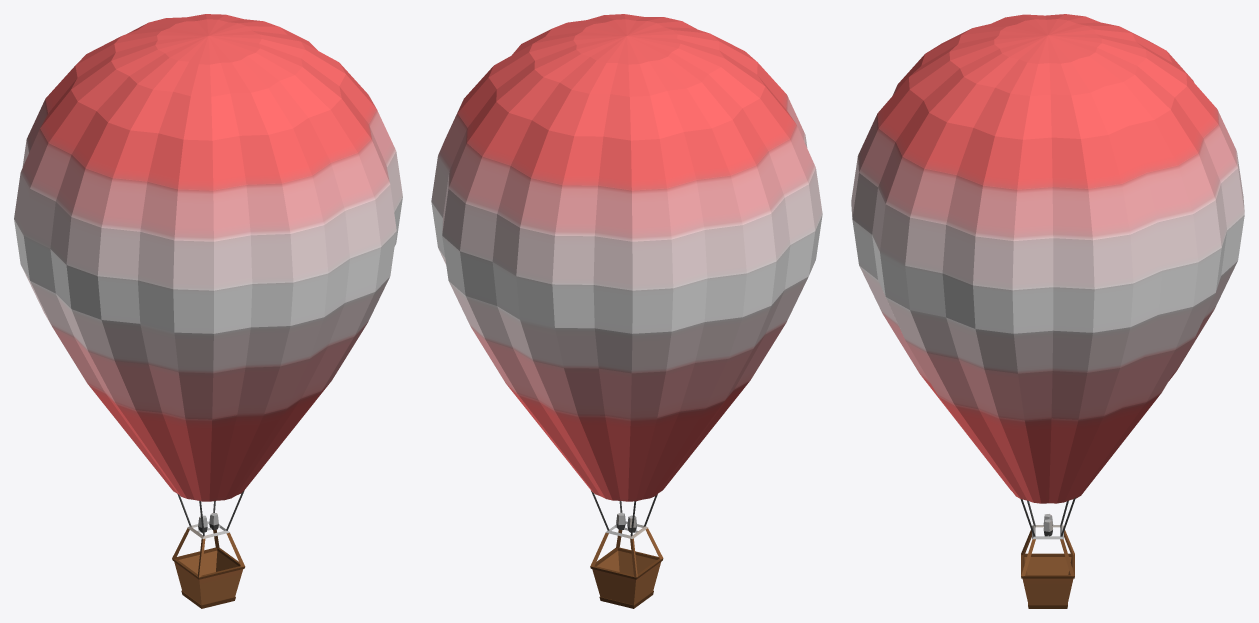
The picture shows the model from 3 angles, left to right: view 1: azimuth 30°, elevation 25°; view 2: azimuth 150°, elevation 25°; view 3: azimuth 270°, elevation 25°; orthographic projection.
Visible parts, largest first — view 1: Hot Air Balloon; view 2: Hot Air Balloon; view 3: Hot Air Balloon.
Part boxes in pixels (<box>): Hot Air Balloon: <box>14,14,402,608</box>; Hot Air Balloon: <box>431,14,822,608</box>; Hot Air Balloon: <box>851,14,1244,608</box>.
Bounding box in the file's own units: 11.56 × 18.57 × 11.72.
Materials: 1 (1 with a texture image).
